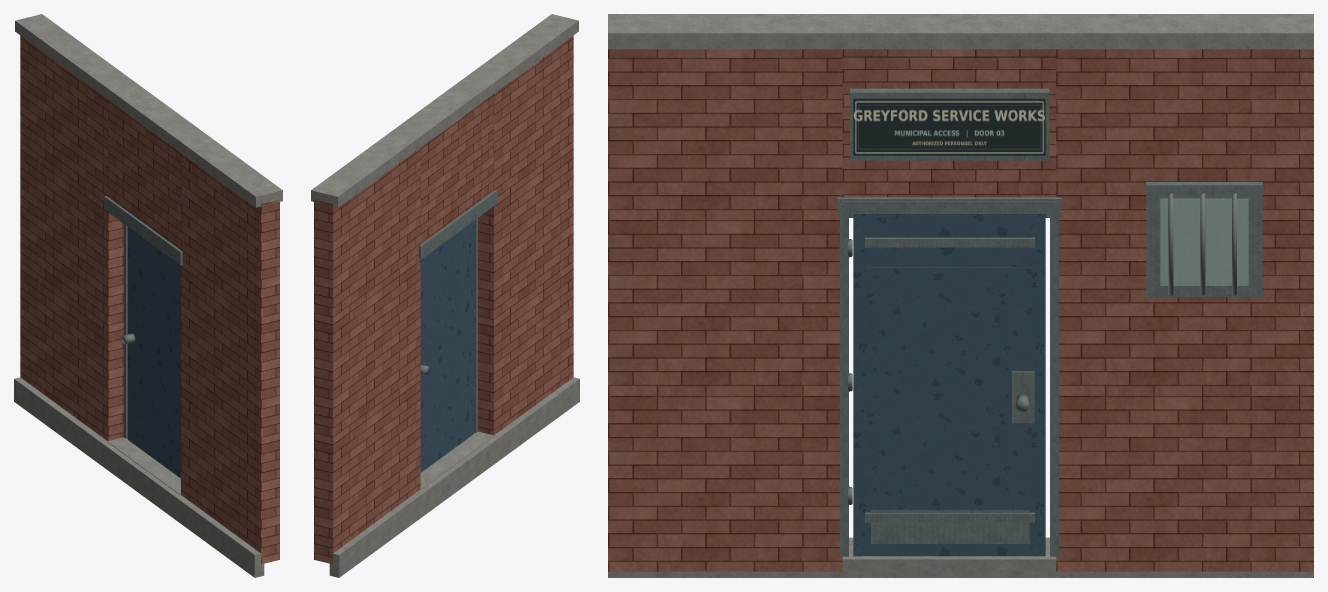
File: PZ_Alley_Wall_ServiceDoor_4M.glb
3 views of the same model, side by side, from view 1: azimuth 30°, elevation 25°; view 2: azimuth 150°, elevation 25°; view 3: azimuth 270°, elevation 25° (orthographic). The views are drawn at different scales.
Visible parts, largest first — view 1: ServiceDoor_BrickPier_A, ServiceDoor_BrickPier_B, ServiceDoor_Leaf_Main, ServiceDoor_Coping, ServiceDoor_Footing, ServiceDoor_AboveOpening_Lintel, ServiceDoor_SteelLintel, ServiceDoor_Threshold, ServiceDoor_Jamb_R; view 2: ServiceDoor_BrickPier_B, ServiceDoor_BrickPier_A, ServiceDoor_Leaf_Main, ServiceDoor_Coping, ServiceDoor_Footing, ServiceDoor_AboveOpening_Lintel, ServiceDoor_SteelLintel, ServiceDoor_Threshold, ServiceDoor_Jamb_L; view 3: ServiceDoor_BrickPier_A, ServiceDoor_BrickPier_B, ServiceDoor_InsetPanel, ServiceDoor_Coping, ServiceDoor_Leaf_Main, ServiceDoor_AboveOpening_Lintel, ServiceDoor_InspectionWindow_Frame, ServiceDoor_GREYFORD_Sign, ServiceDoor_InspectionWindow_Glass, ServiceDoor_Footing, ServiceDoor_Kickplate, ServiceDoor_SignBacking (+8 smaller).
Boxes of the visible parts, x1,y1,x2,y2 form: ServiceDoor_BrickPier_A: (181, 153, 279, 564); ServiceDoor_BrickPier_B: (20, 35, 123, 440); ServiceDoor_Leaf_Main: (127, 227, 180, 478); ServiceDoor_Coping: (15, 14, 282, 207); ServiceDoor_Footing: (14, 377, 264, 577); ServiceDoor_AboveOpening_Lintel: (108, 100, 180, 249); ServiceDoor_SteelLintel: (104, 196, 182, 265); ServiceDoor_Threshold: (107, 437, 180, 494); ServiceDoor_Jamb_R: (123, 224, 127, 438); ServiceDoor_BrickPier_B: (314, 147, 420, 564); ServiceDoor_BrickPier_A: (478, 35, 573, 435); ServiceDoor_Leaf_Main: (420, 221, 474, 472); ServiceDoor_Coping: (311, 14, 578, 207); ServiceDoor_Footing: (329, 377, 579, 577); ServiceDoor_AboveOpening_Lintel: (420, 94, 493, 244); ServiceDoor_SteelLintel: (419, 190, 497, 259); ServiceDoor_Threshold: (420, 431, 494, 489); ServiceDoor_Jamb_L: (474, 218, 477, 432); ServiceDoor_BrickPier_A: (608, 49, 842, 571); ServiceDoor_BrickPier_B: (1056, 49, 1313, 571); ServiceDoor_InsetPanel: (867, 267, 1031, 505); ServiceDoor_Coping: (608, 14, 1313, 49); ServiceDoor_Leaf_Main: (853, 213, 1045, 556); ServiceDoor_AboveOpening_Lintel: (842, 49, 1056, 197); ServiceDoor_InspectionWindow_Frame: (1146, 182, 1262, 297); ServiceDoor_GREYFORD_Sign: (853, 98, 1045, 155); ServiceDoor_InspectionWindow_Glass: (1160, 198, 1248, 285); ServiceDoor_Footing: (608, 537, 1313, 577); ServiceDoor_Kickplate: (871, 510, 1029, 543); ServiceDoor_SignBacking: (850, 88, 1049, 160).
Size of the model in its own units: 0.38 by 3.49 by 4.
Materials: 6 (5 with a texture image).
